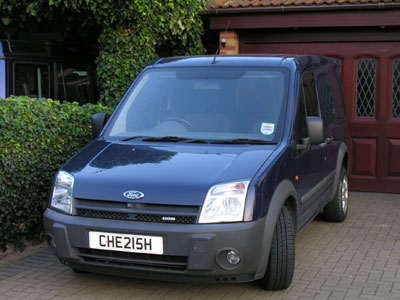licencePlate: (89, 231, 165, 256)
